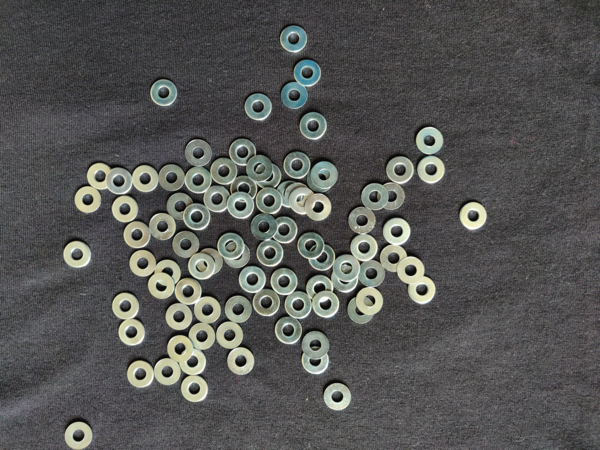circle: (408, 276, 437, 305), (331, 265, 361, 293), (460, 202, 488, 231), (418, 156, 446, 185), (64, 240, 92, 269), (356, 288, 385, 316), (227, 347, 255, 376), (165, 303, 194, 331), (383, 218, 411, 247), (378, 182, 406, 211), (172, 231, 201, 259), (216, 321, 244, 350), (225, 295, 253, 324), (253, 289, 281, 318), (229, 138, 257, 167), (256, 239, 284, 268), (357, 260, 386, 288), (304, 193, 333, 221), (290, 186, 316, 217), (150, 79, 178, 107), (244, 93, 272, 121), (280, 25, 308, 53), (300, 112, 328, 140), (416, 127, 444, 155), (324, 383, 352, 411), (223, 241, 251, 269), (194, 296, 222, 324), (275, 317, 303, 345), (283, 151, 311, 179), (311, 161, 339, 189), (333, 255, 361, 283), (294, 60, 323, 87), (387, 156, 414, 185), (307, 165, 334, 194), (351, 234, 378, 263), (302, 346, 329, 374), (303, 332, 330, 360), (65, 423, 93, 450), (127, 361, 155, 388), (113, 293, 140, 321), (112, 196, 139, 224), (158, 164, 185, 192), (185, 139, 212, 167), (176, 278, 203, 306), (166, 194, 194, 221), (184, 203, 211, 231), (211, 157, 238, 185), (230, 176, 258, 203), (188, 253, 216, 280), (286, 291, 313, 319), (313, 291, 340, 319), (306, 276, 334, 303), (256, 187, 283, 215), (285, 182, 312, 210), (133, 164, 159, 193), (361, 185, 390, 211), (281, 82, 308, 109), (155, 359, 182, 386), (119, 320, 146, 347), (75, 186, 102, 213), (398, 257, 425, 284), (348, 298, 375, 325), (107, 168, 134, 195), (124, 222, 151, 249), (180, 350, 207, 377), (189, 324, 216, 351), (185, 166, 212, 193), (228, 193, 255, 220), (255, 163, 282, 190), (182, 376, 208, 404), (380, 246, 408, 272), (251, 213, 277, 241), (87, 163, 113, 190), (150, 214, 176, 241), (168, 336, 194, 363), (149, 273, 175, 300), (204, 186, 230, 213), (218, 234, 245, 260), (197, 249, 224, 275), (240, 266, 266, 293), (272, 269, 298, 296), (272, 217, 298, 244), (310, 244, 336, 271), (350, 208, 377, 234), (130, 251, 156, 277), (155, 260, 181, 286), (277, 182, 303, 208), (248, 156, 273, 183), (299, 233, 324, 259)
